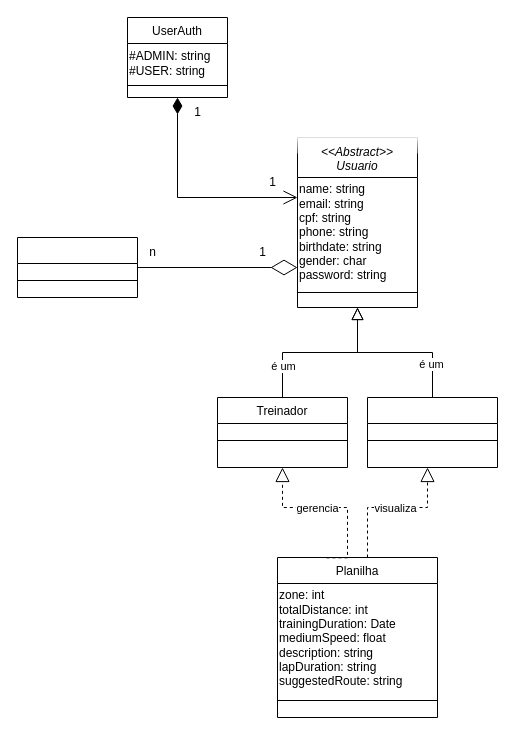
The diagram is 515 pixels wide and 735 high, and some of its shapes have lost their labels. Here are the shapes that lost their labels. From the top down, the centre of each, then its label:
At pixel 77 267: "EmailSender".
At pixel 432 432: "Atleta".
